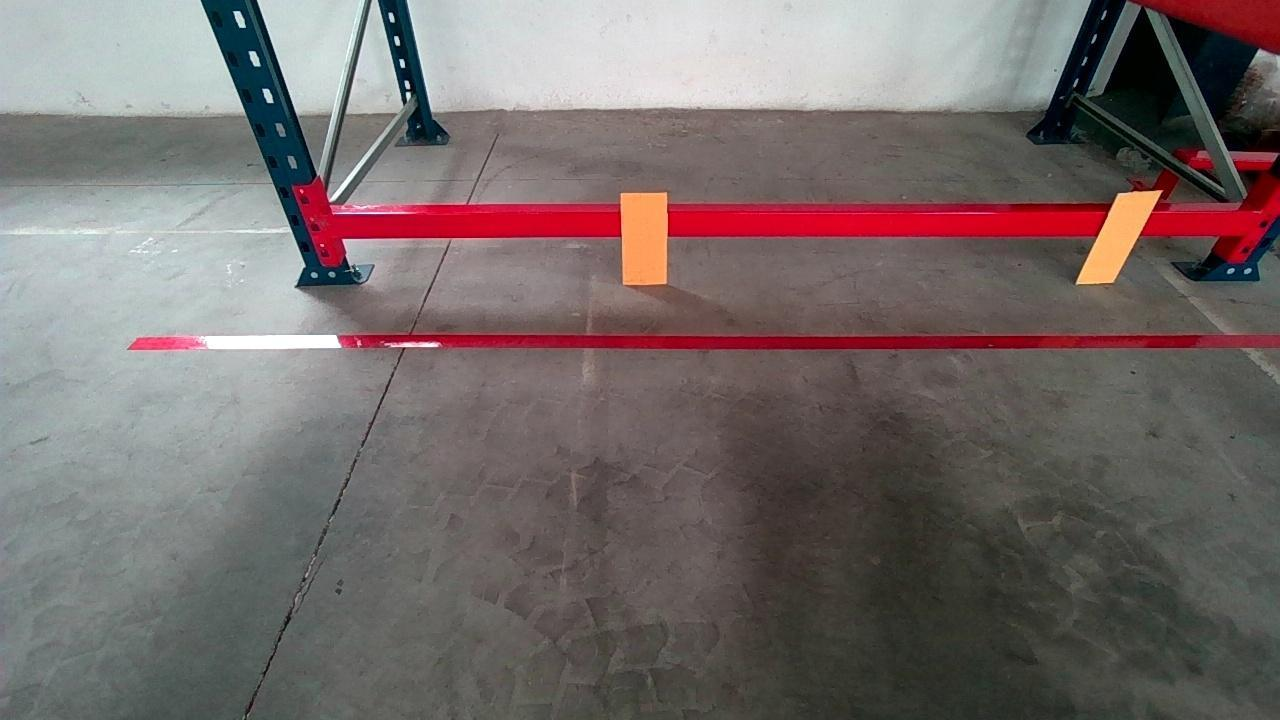h_rack: (330, 207, 1261, 240)
orange_strip: (1077, 191, 1161, 282), (621, 191, 669, 284)
red_line: (125, 331, 1280, 349)
